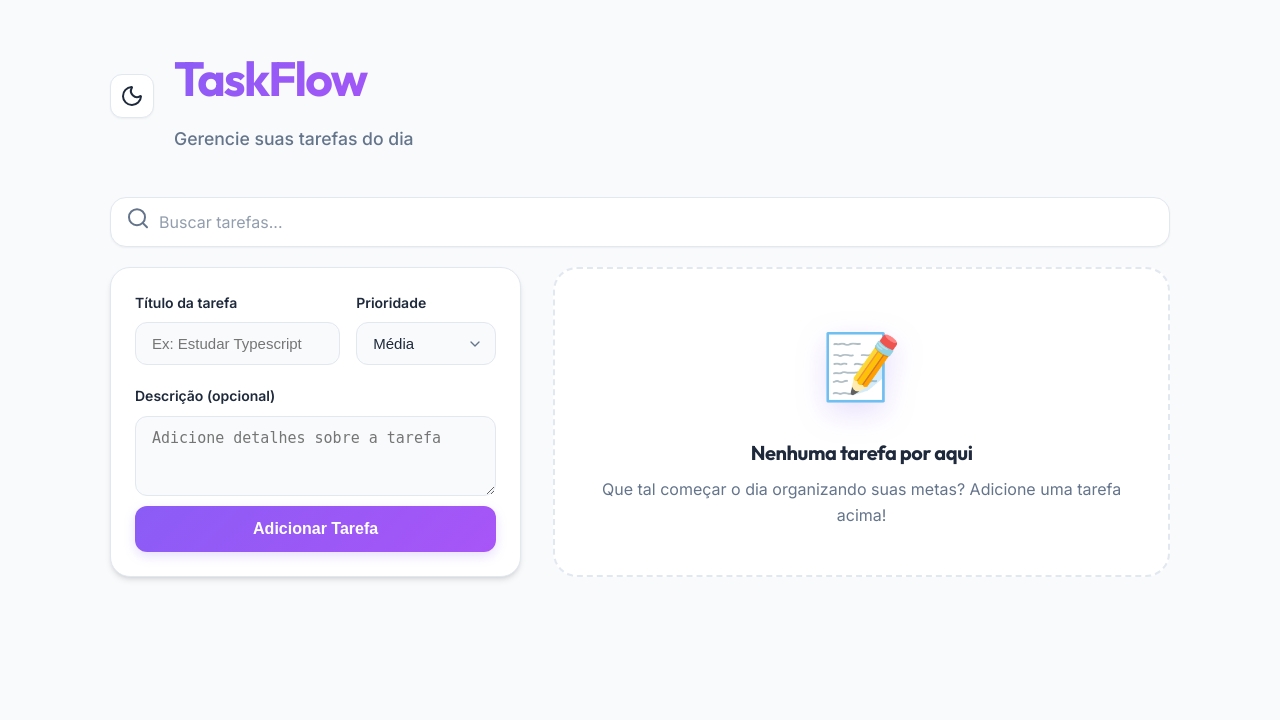
Scenario: App Integration › deve filtrar a lista de tarefas na tela quando o usuário digita na busca
Type "Estudar Automação" into the field with placeholder "Ex: Estudar Typescript". click: (238, 344)
box: [135,322,340,365]
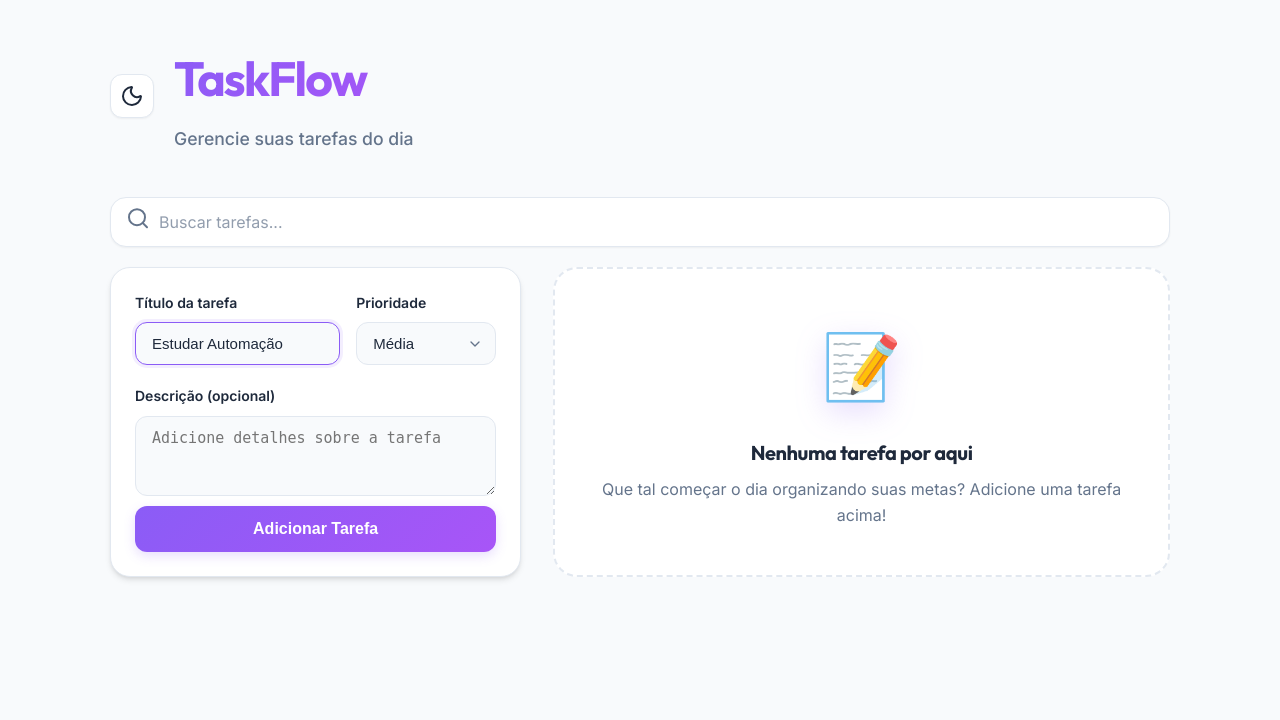
Click the button "Adicionar Tarefa". click: (316, 529)
box: [135,506,496,552]
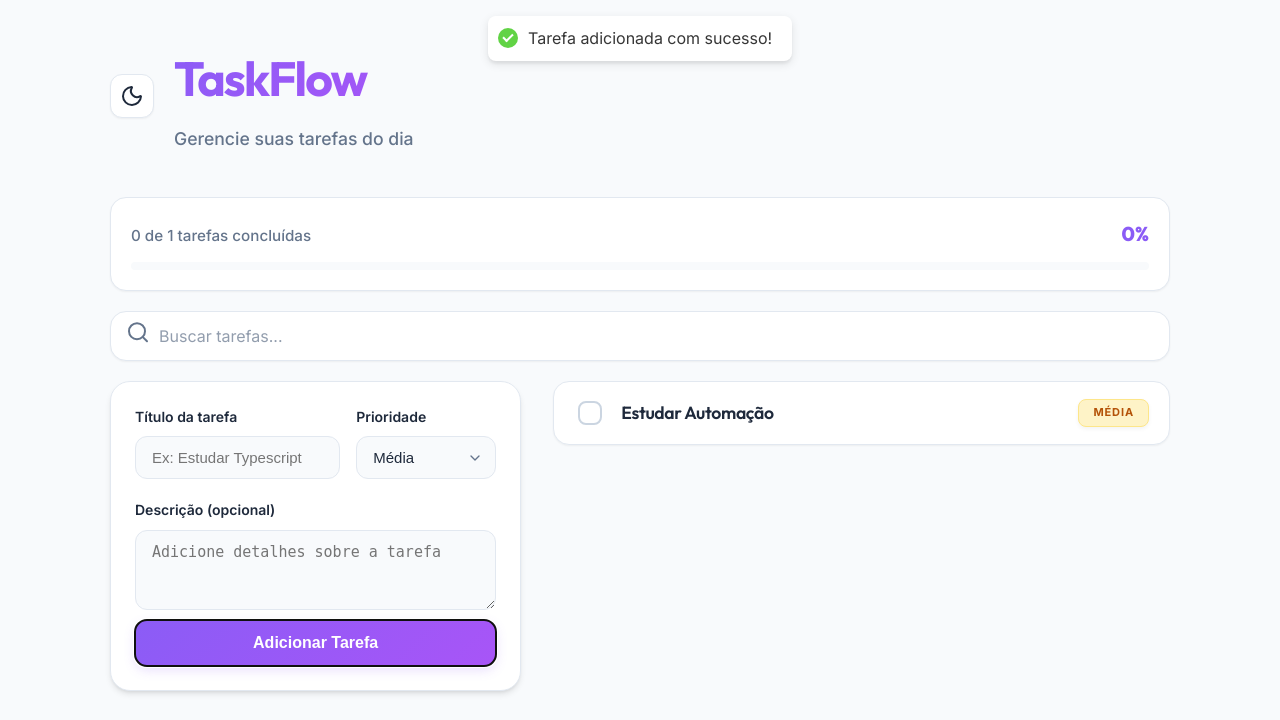
Expected: the heading "Estudar Automação" is shown, [621,401,774,424]
Type "Cozinhar" into the field with placeholder "Buscar tarefas...". click: (640, 336)
box: [110,311,1170,361]
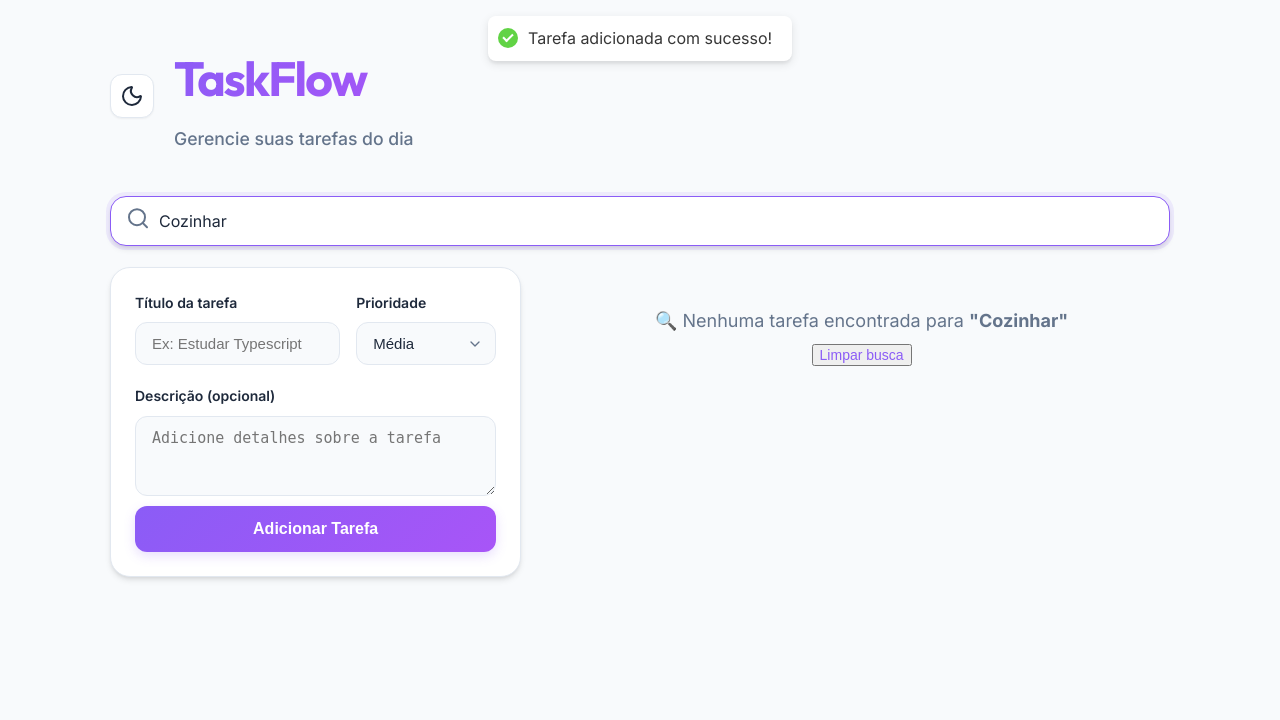
Expected: the button "Estudar Automação" is gone
Expected: the text "🔍 Nenhuma tarefa encontrada para \"Cozinhar\"" is shown, [655,310,1068,331]
